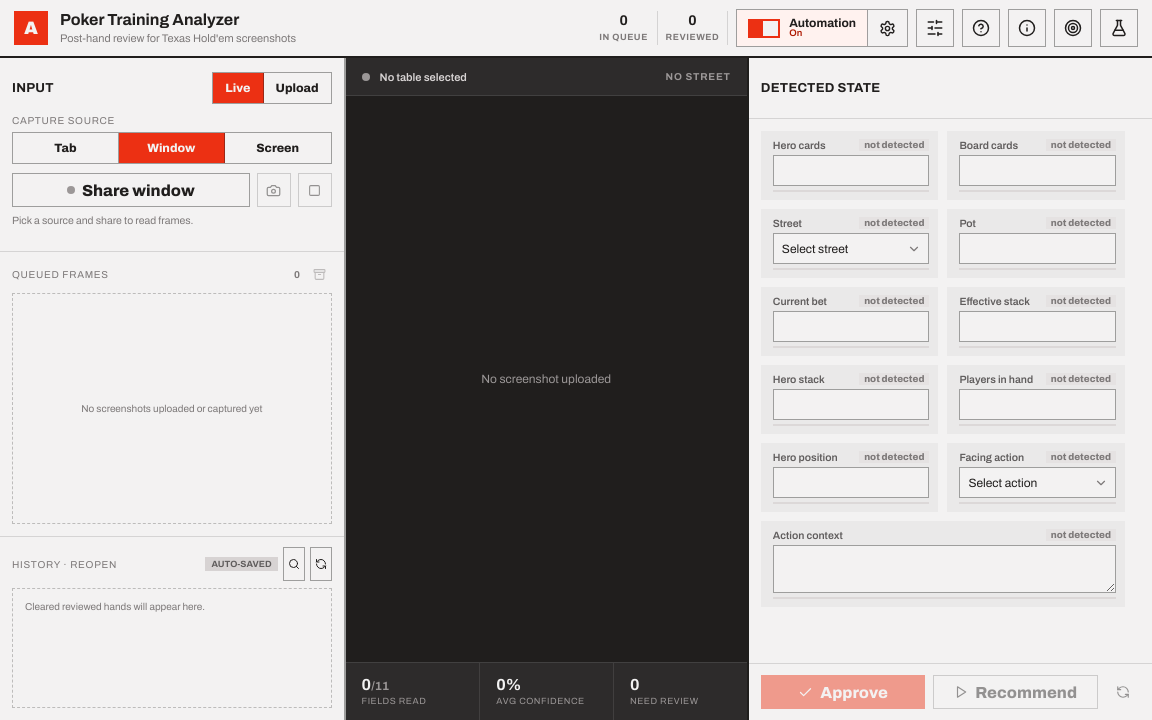
Test: Analyzer pipeline › selects compatible fallbacks when configured pipeline defaults are unavailable
The width and height of the screenshot is (1152, 720).
Click the button named "Configure analysis plugins": (935, 28) [916,9,954,47]
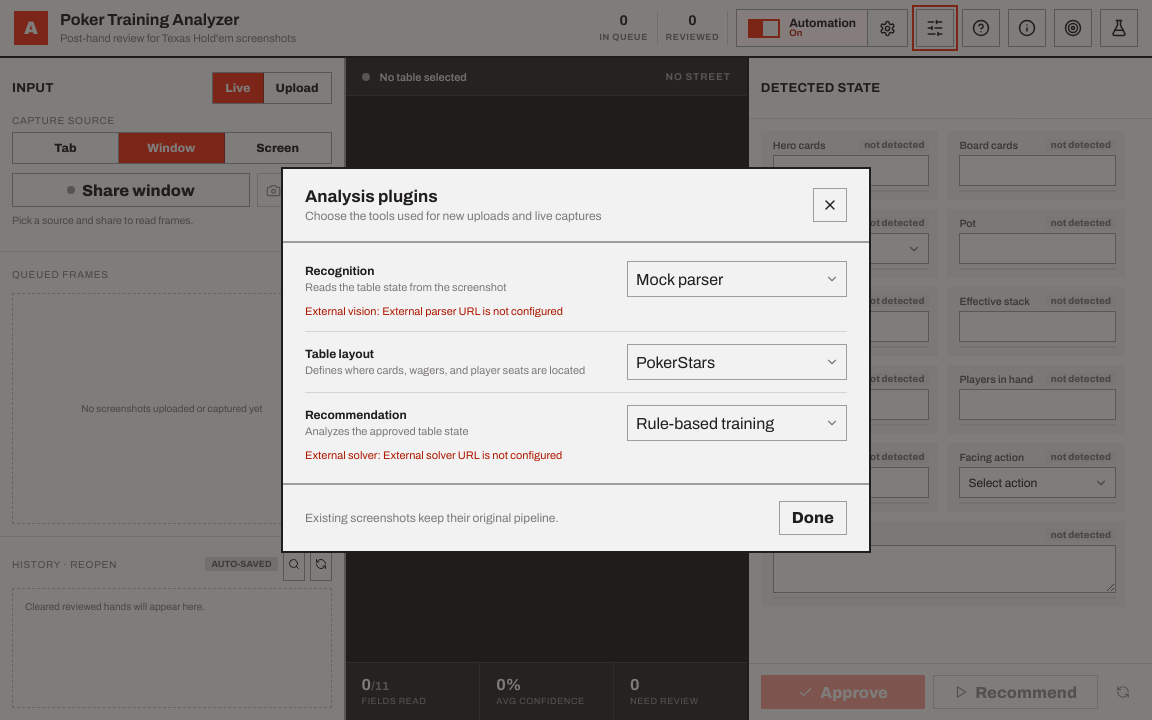
Now the dropdown labelled "Recognition" shows "Mock parser", box [627,261,847,297]
Now the dropdown labelled "Table layout" shows "PokerStars", box [627,344,847,380]
Now the dropdown labelled "Recommendation" shows "Rule-based training", box [627,405,847,441]
